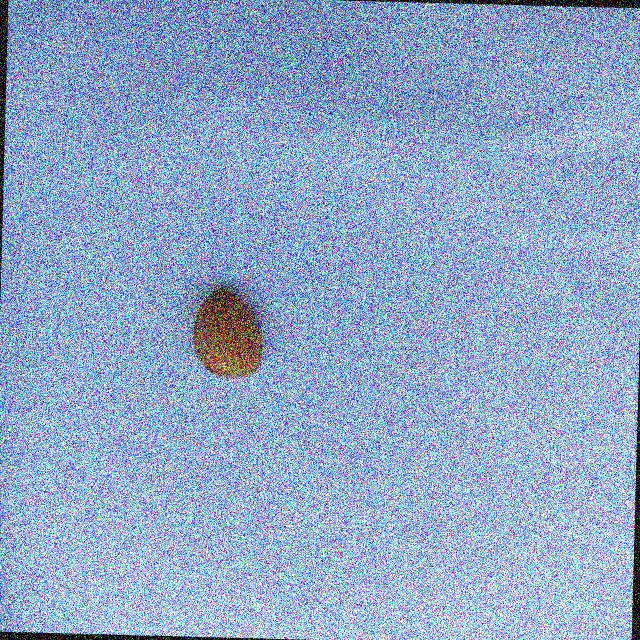grade2: (189, 284, 271, 382)
